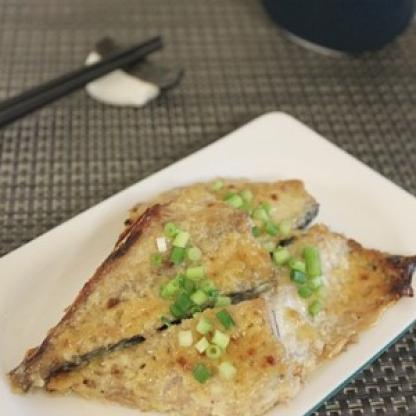Peixe: (0, 170, 416, 416)
